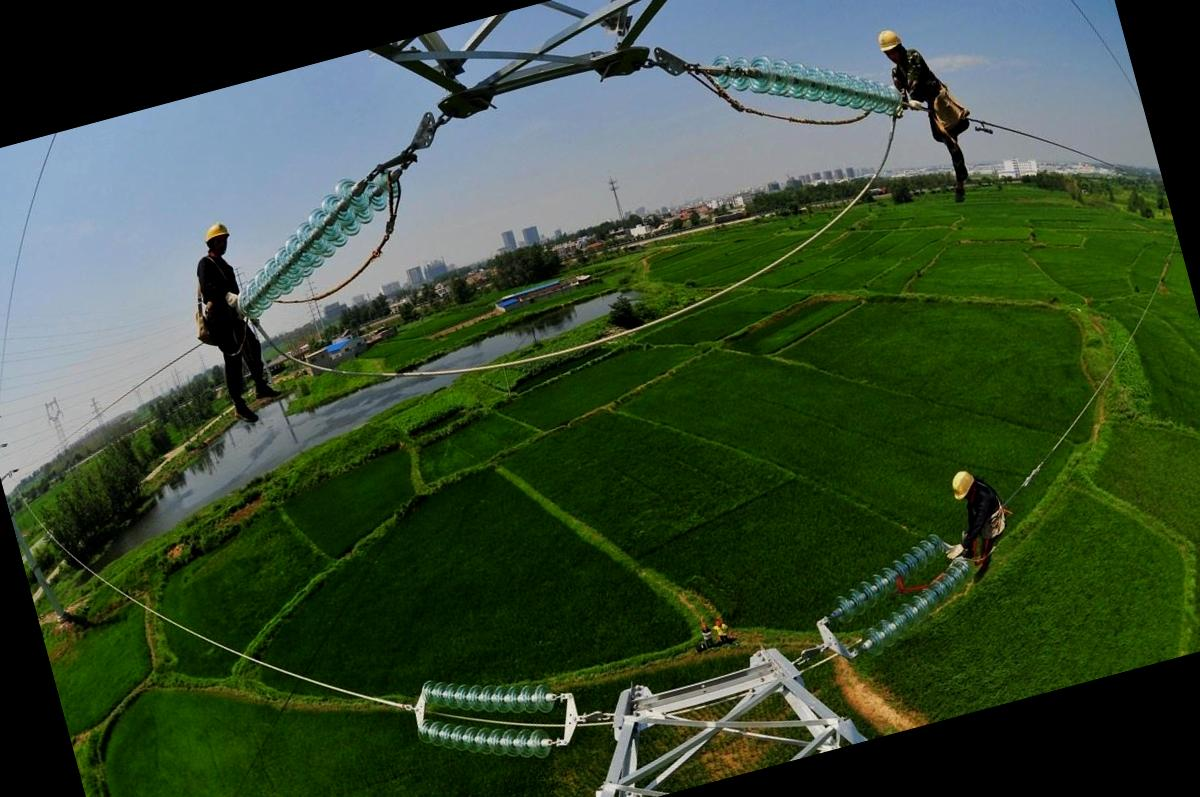helmet: (931, 460, 986, 510), (190, 214, 237, 256), (870, 24, 910, 59)
person: (171, 210, 299, 428), (870, 8, 1000, 219), (935, 462, 1026, 599)
